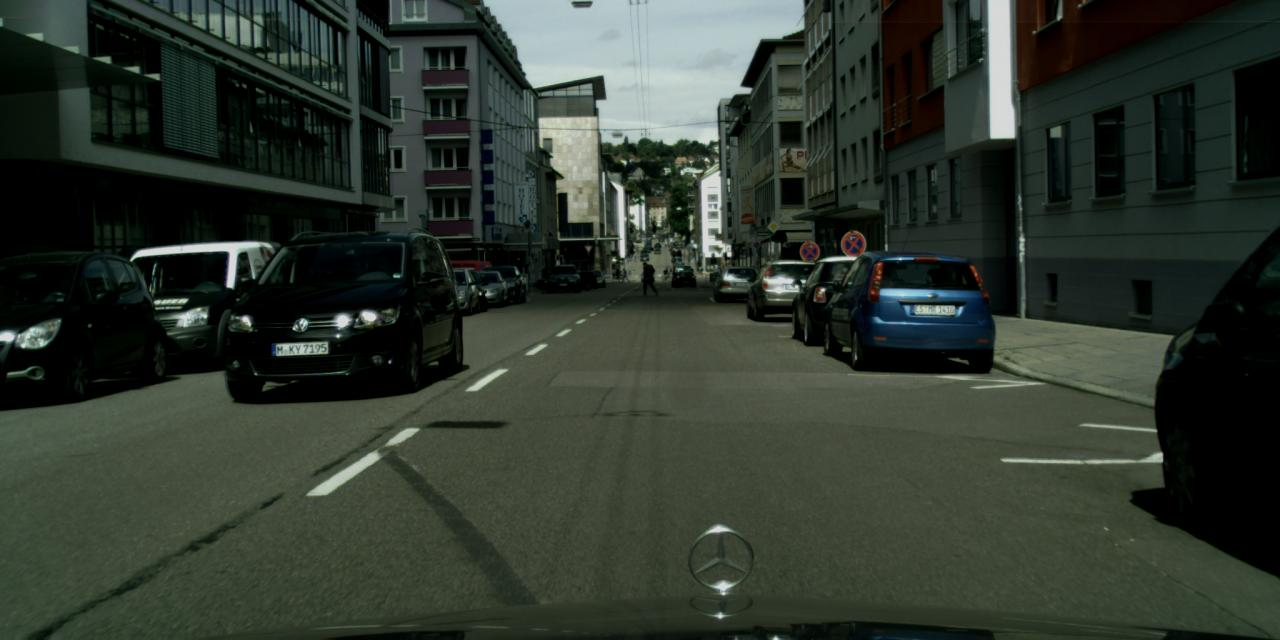ped: (640, 262, 654, 294), (622, 267, 627, 282), (663, 267, 668, 279), (611, 268, 615, 280), (615, 269, 619, 279)
